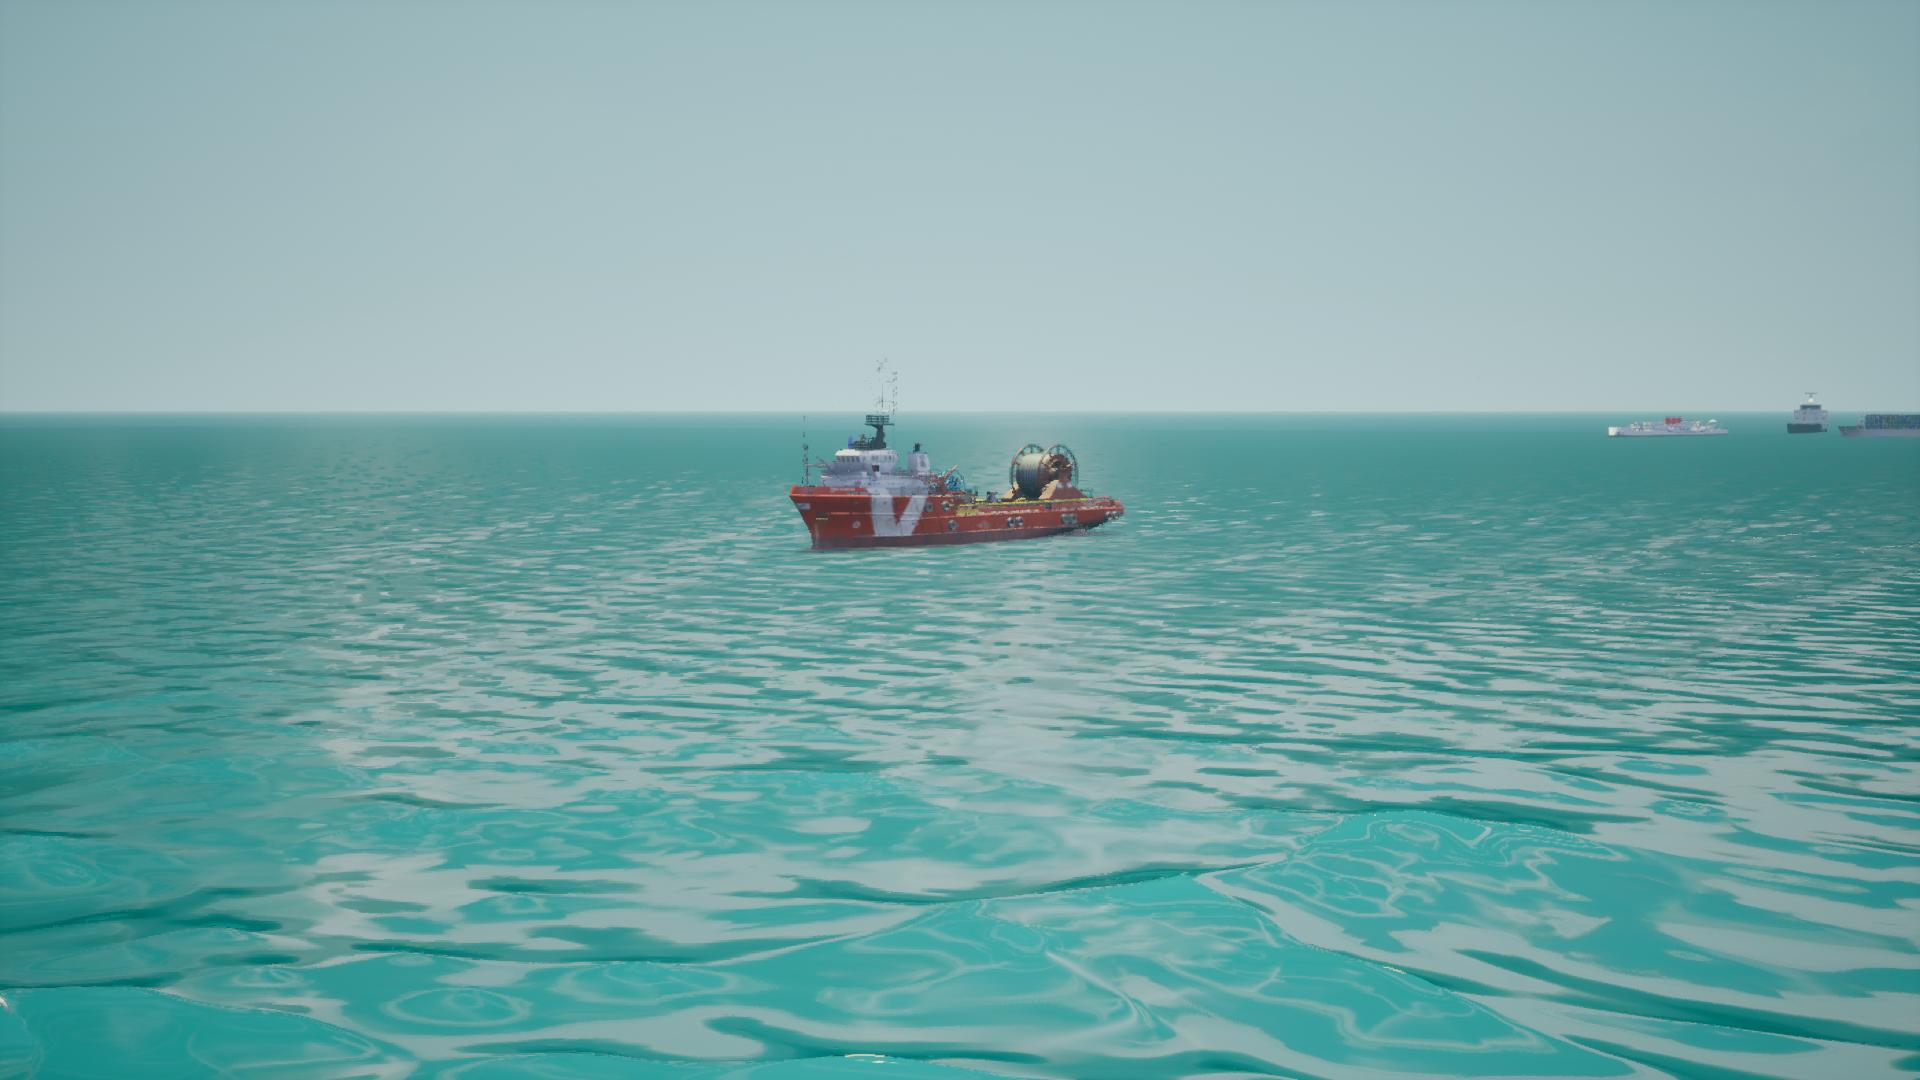Tug Boat: (783, 360, 1124, 554)
